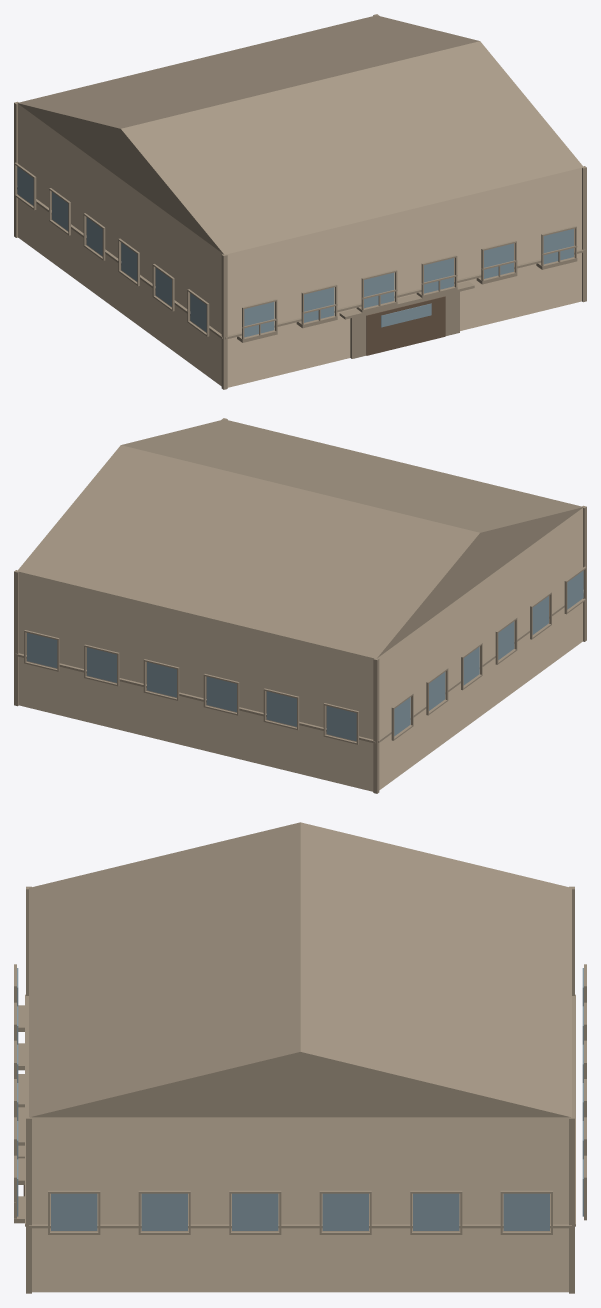
Rendered from lot_3x3_gable.glb.
The picture shows the model from 3 angles, top to bottom: view 1: azimuth 30°, elevation 25°; view 2: azimuth 150°, elevation 25°; view 3: azimuth 270°, elevation 25°; orthographic projection. The views are drawn at different scales.
Visible parts, largest first — view 1: lot_3x3_gable; view 2: lot_3x3_gable; view 3: lot_3x3_gable.
Part boxes in pixels (x1,y1,x2,y2): lot_3x3_gable: (14,14,586,389); lot_3x3_gable: (14,418,586,793); lot_3x3_gable: (14,822,586,1293).
Bounding box in the file's own units: 23.74 × 11 × 23.74.
